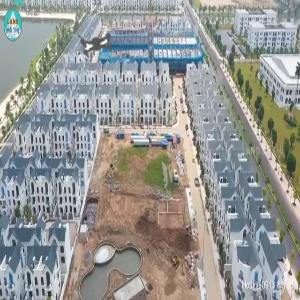drone: (60, 6, 139, 85)
